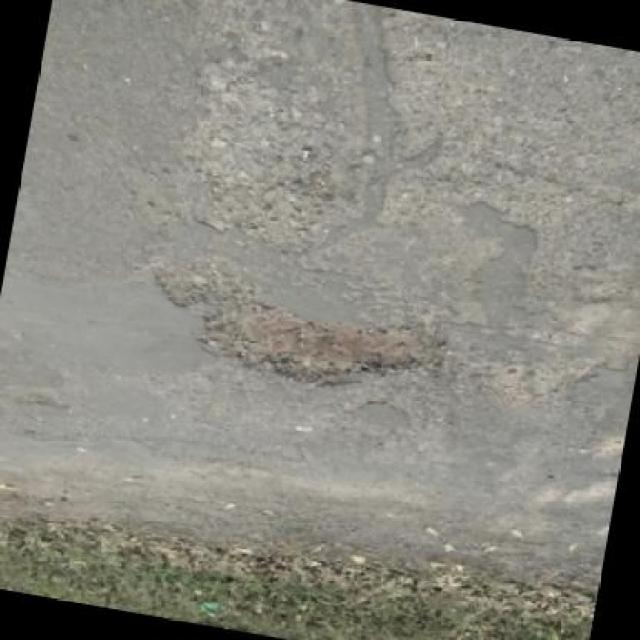pothole1: (134, 255, 454, 414)
